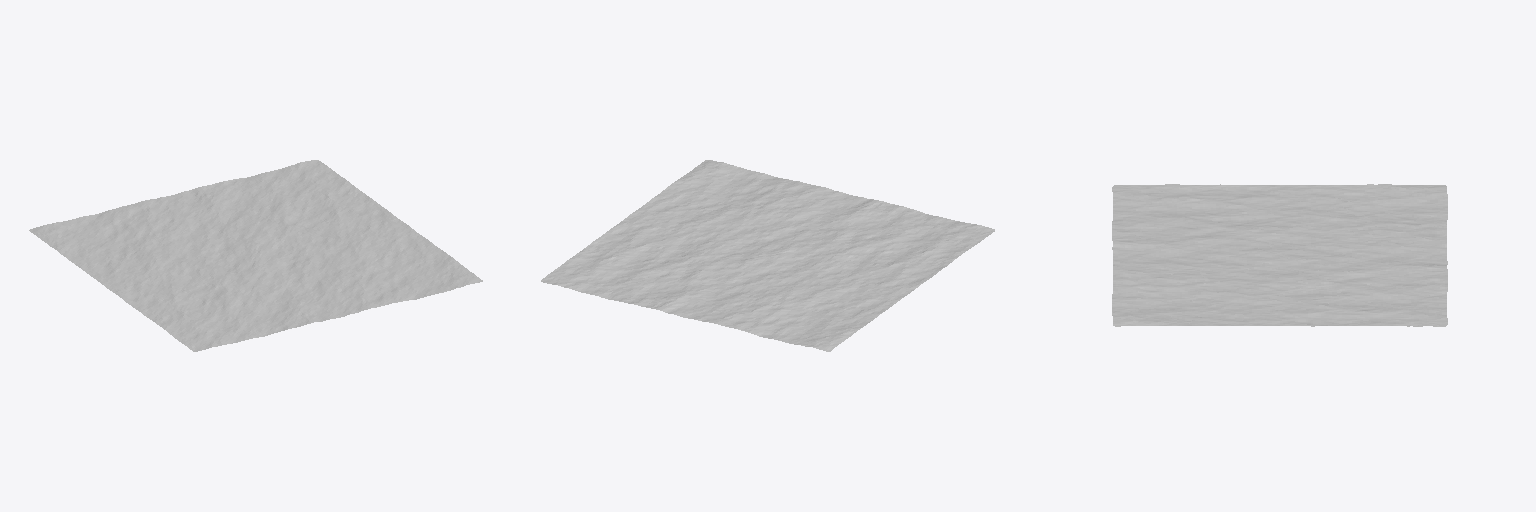
Rendered from sea_000014.obj.
The picture shows the model from 3 angles: view 1: azimuth 30°, elevation 25°; view 2: azimuth 150°, elevation 25°; view 3: azimuth 270°, elevation 25°; orthographic projection.
Parts seen in each view (by area): view 1: Plane; view 2: Plane; view 3: Plane.
Part boxes in pixels (x1,y1,x2,y2): Plane: (29,160,482,351); Plane: (541,160,994,351); Plane: (1112,184,1447,326).
Bounding box in the file's own units: 200 × 1.63 × 201.